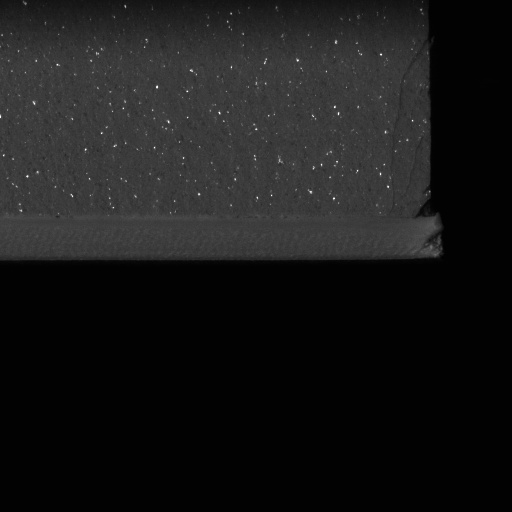bengque: (422, 229, 446, 258), (412, 197, 440, 220)
